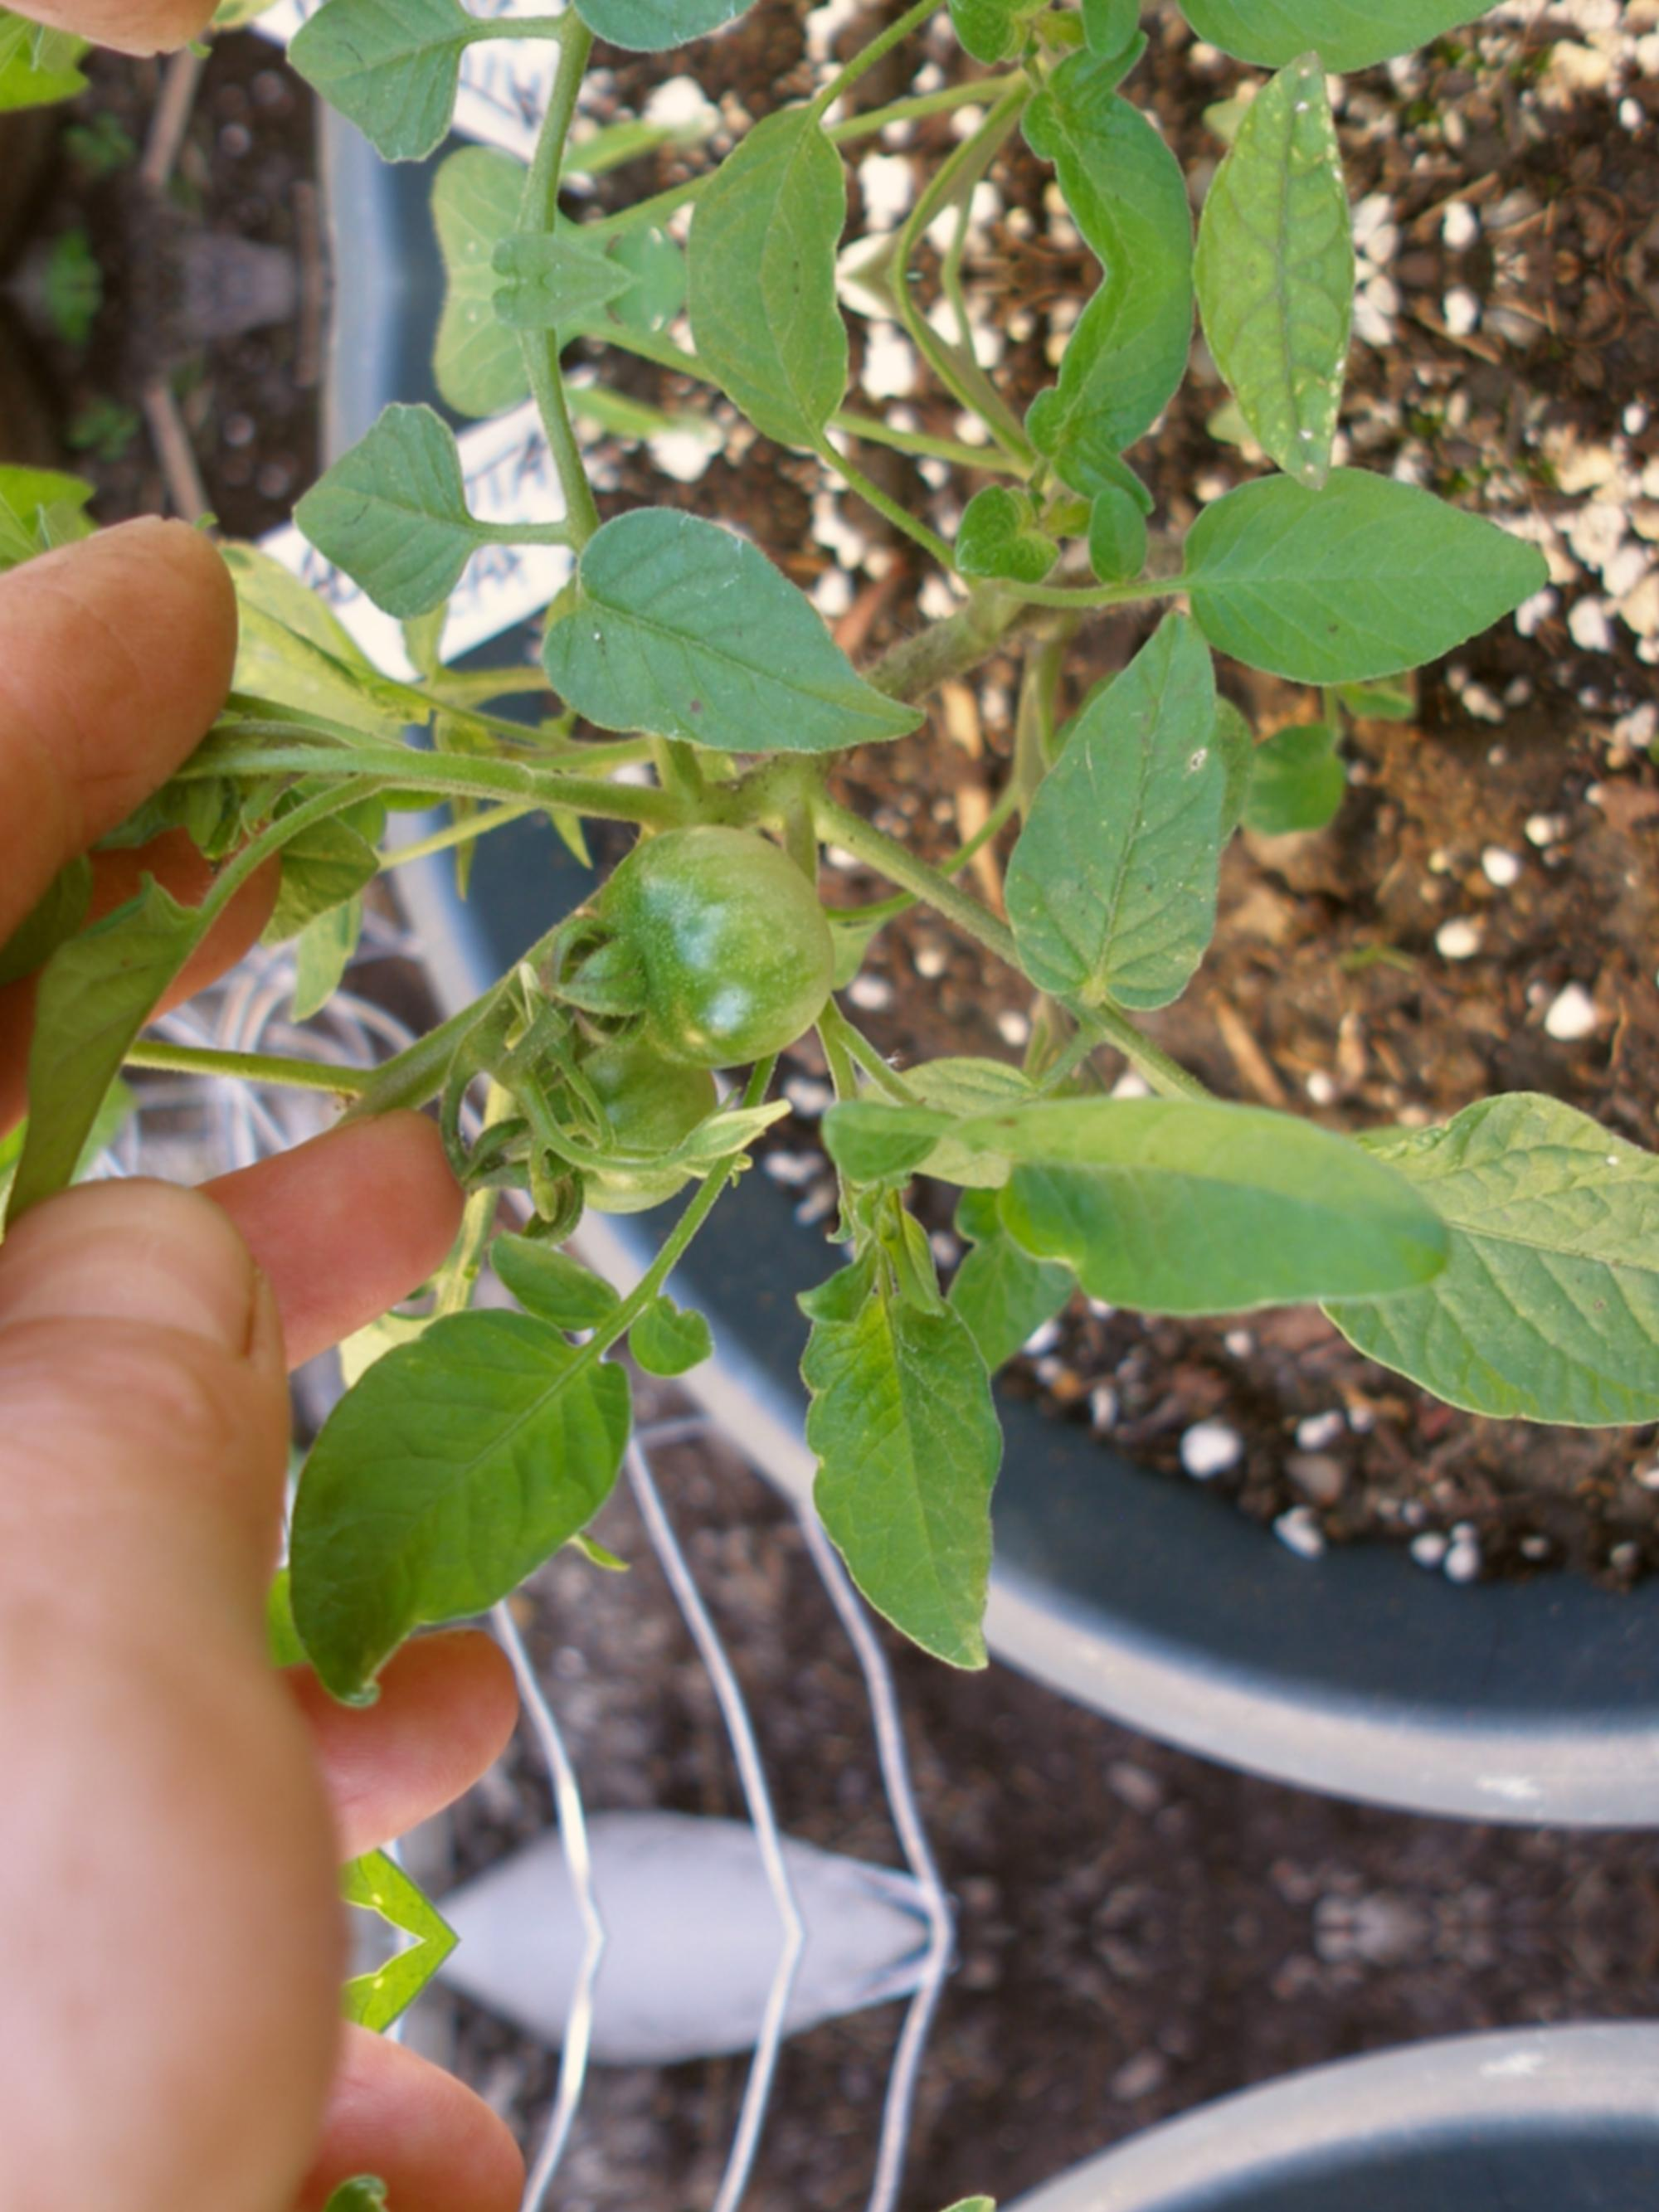Tomato leaf: (244, 1262, 709, 1720), (1280, 987, 1659, 1502), (975, 602, 1297, 1057), (723, 1333, 1070, 1739), (1155, 432, 1589, 719), (536, 461, 886, 817), (988, 1095, 1489, 1328), (990, 271, 1217, 552)
